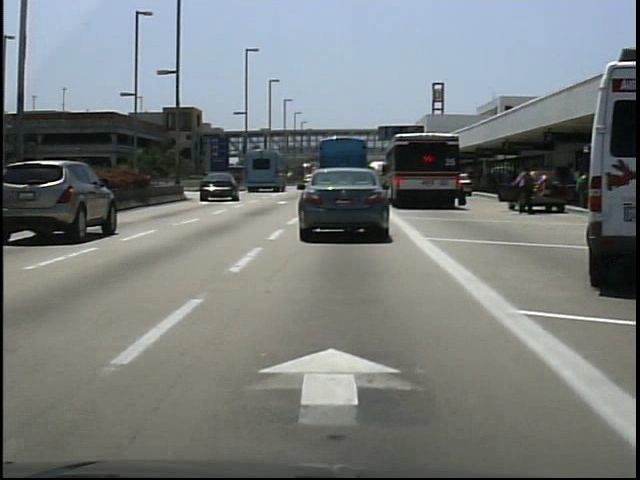person: (515, 163, 538, 217)
